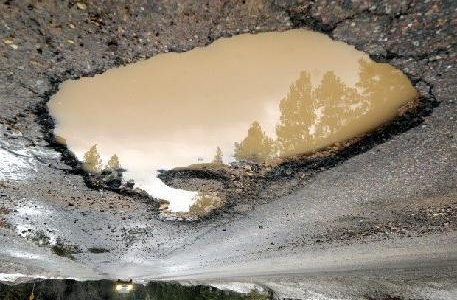pothole: (31, 22, 440, 228)
